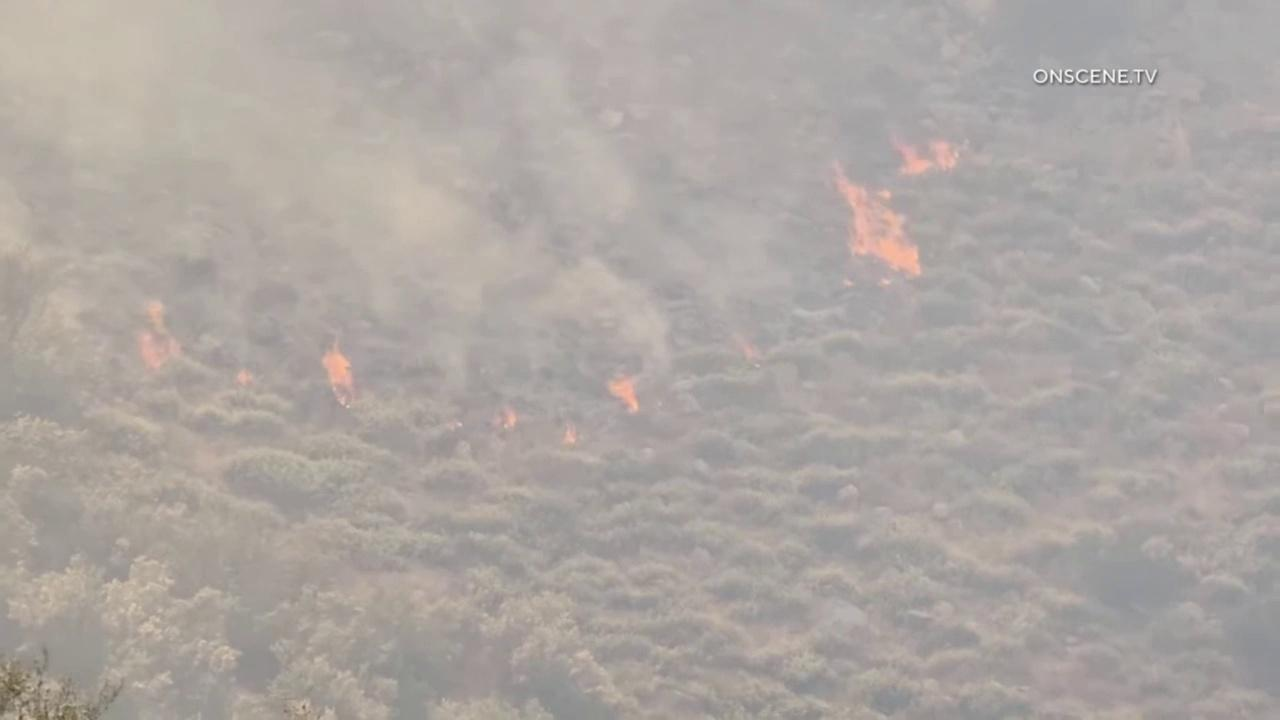fire: (827, 157, 923, 288), (135, 299, 185, 375), (317, 336, 360, 412), (892, 136, 963, 175), (604, 375, 640, 412), (740, 333, 764, 363), (233, 366, 257, 387), (558, 421, 578, 446), (498, 403, 517, 429), (444, 420, 464, 431)
smoke: (0, 0, 1280, 720)
